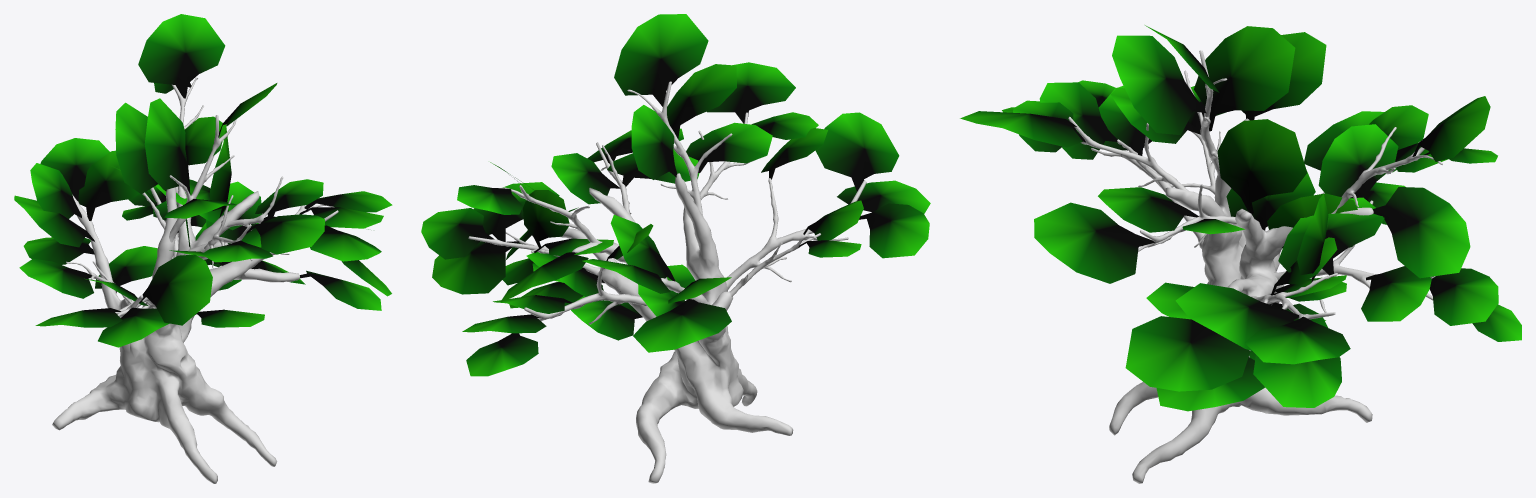
Rendered from tree_4_large.glb.
3 views of the same model, side by side, from view 1: azimuth 30°, elevation 25°; view 2: azimuth 150°, elevation 25°; view 3: azimuth 270°, elevation 25° (orthographic). The views are drawn at different scales.
Visible parts, largest first — view 1: tree_4_large; view 2: tree_4_large; view 3: tree_4_large.
Boxes of the visible parts, bbox=[...] form: tree_4_large: bbox=[14, 14, 392, 483]; tree_4_large: bbox=[421, 14, 930, 483]; tree_4_large: bbox=[960, 25, 1521, 483].
Size of the model in its own units: 6.98 by 6.1 by 6.72.
